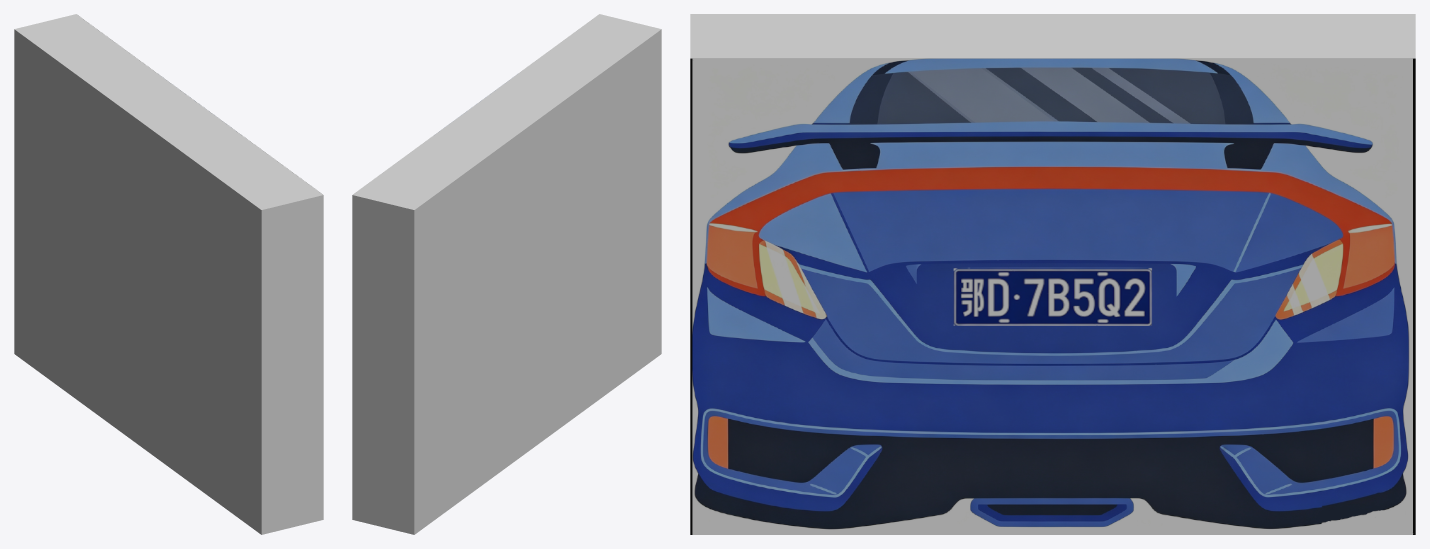
The model's file is car2.dae.
3 views of the same model, side by side, from view 1: azimuth 30°, elevation 25°; view 2: azimuth 150°, elevation 25°; view 3: azimuth 270°, elevation 25° (orthographic). The views are drawn at different scales.
Parts seen in each view (by area): view 1: 立方体; view 2: 立方体; view 3: 平面, 立方体.
Part boxes in pixels (x1=…): 立方体: x1=14, y1=14, x2=323, y2=534; 立方体: x1=352, y1=14, x2=661, y2=534; 平面: x1=690, y1=58, x2=1415, y2=534; 立方体: x1=690, y1=14, x2=1415, y2=58.
Size of the model in its own units: 0.0501 by 0.345 by 0.25.
Materials: 1 (1 with a texture image).
